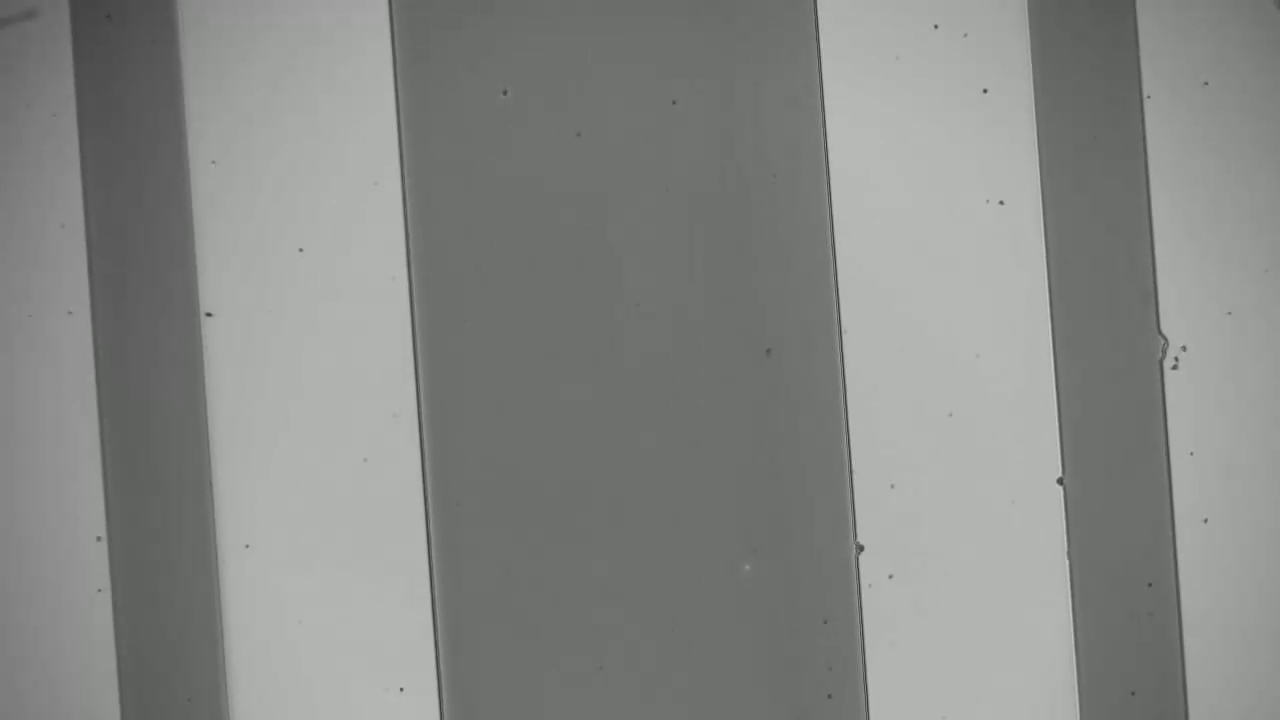edge_bite: (1139, 316, 1184, 370)
